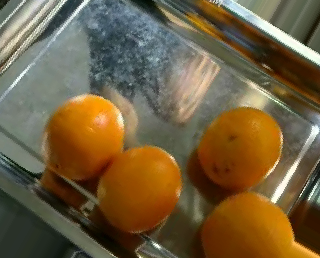Orange: (97, 144, 183, 232), (41, 93, 125, 179), (198, 106, 283, 189)
